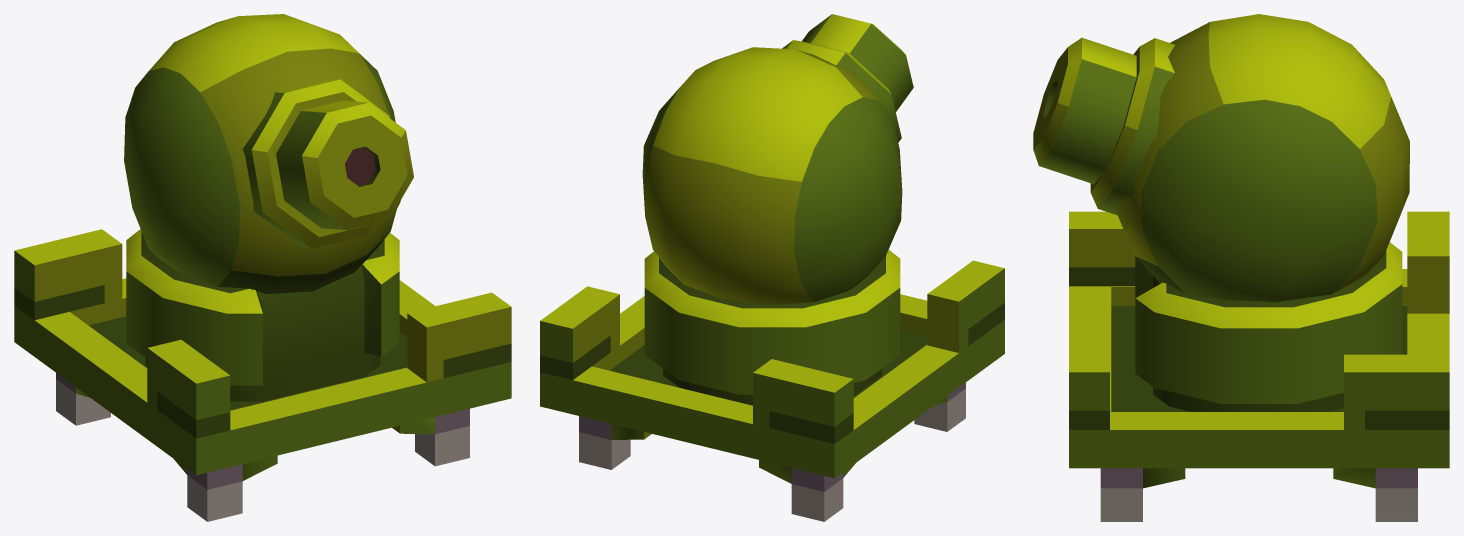
Rendered from PipeRunnerMesh.AcidRain.glb.
3 renders of one model, left to right at view 1: azimuth 30°, elevation 25°; view 2: azimuth 150°, elevation 25°; view 3: azimuth 270°, elevation 25°, orthographic. The views are drawn at different scales.
Parts seen in each view (by area): view 1: PipeRunnerMesh.AcidRain; view 2: PipeRunnerMesh.AcidRain; view 3: PipeRunnerMesh.AcidRain.
Boxes of the visible parts, left/top/right/bottom form: PipeRunnerMesh.AcidRain: left=14, top=14, right=511, bottom=521; PipeRunnerMesh.AcidRain: left=540, top=14, right=1004, bottom=521; PipeRunnerMesh.AcidRain: left=1033, top=14, right=1449, bottom=521.
Size of the model in its own units: 1.8 by 2.23 by 1.97.
Materials: 1 (1 with a texture image).
